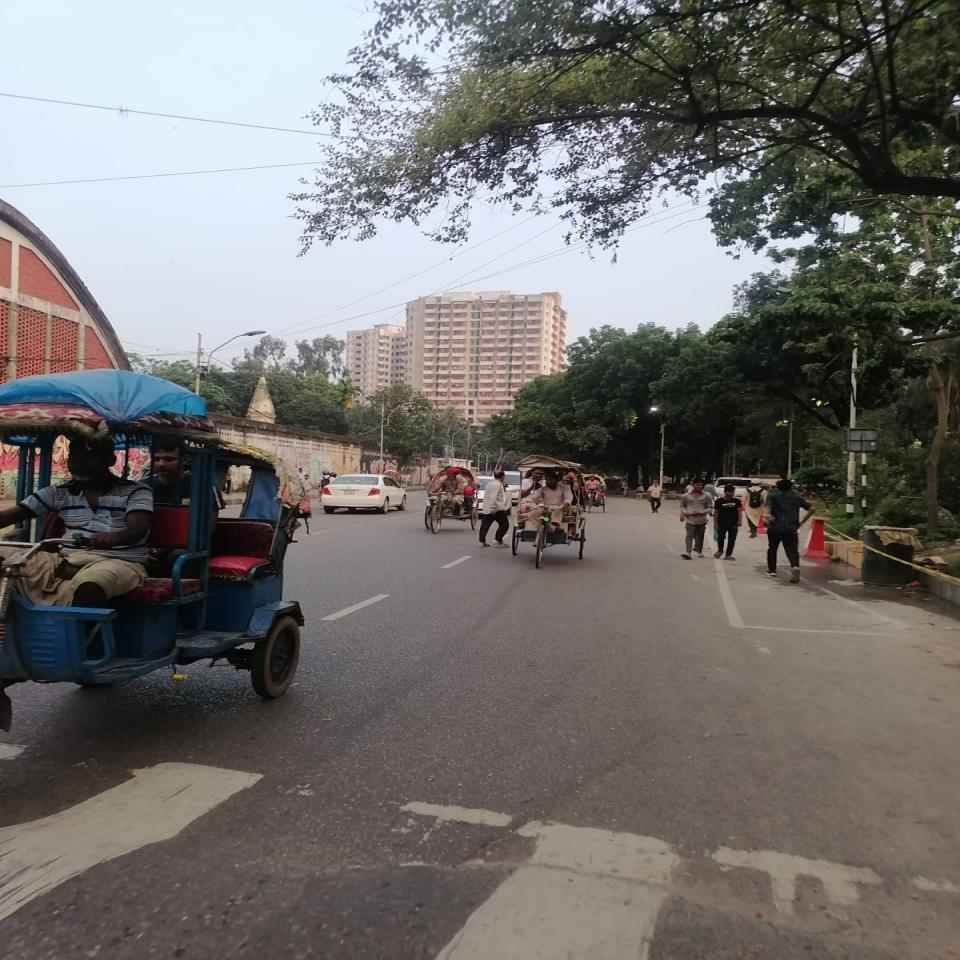person: (479, 470, 511, 548)
